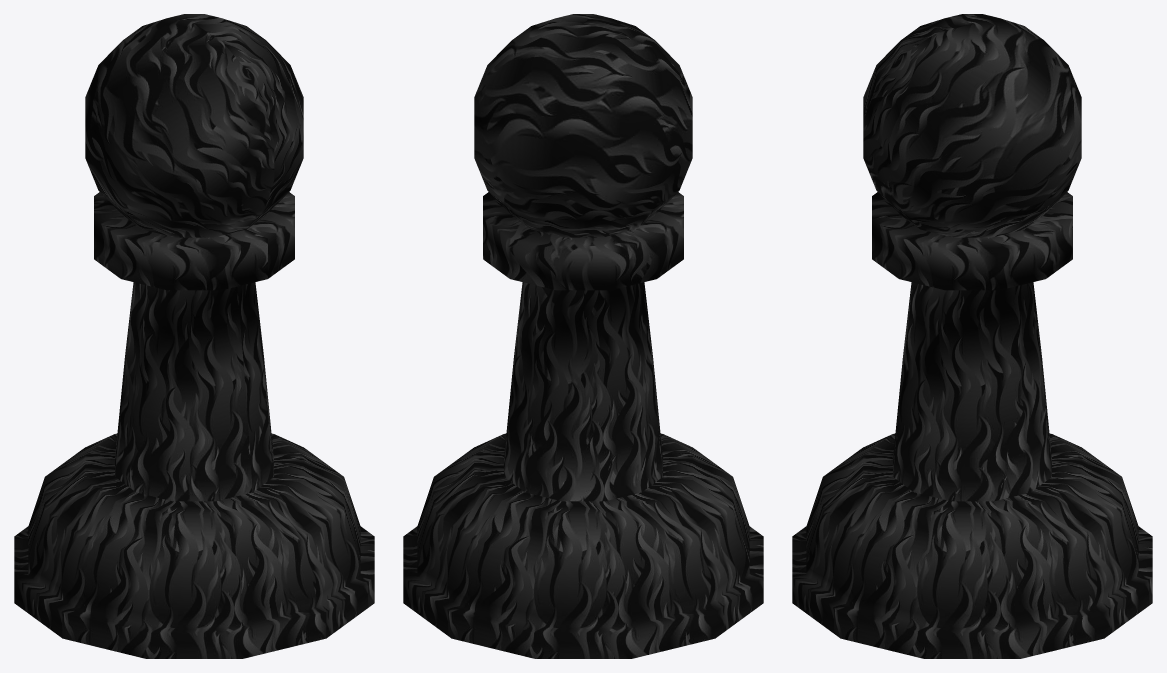
Rendered from Pawn.glb.
The picture shows the model from 3 angles, left to right: view 1: azimuth 30°, elevation 25°; view 2: azimuth 150°, elevation 25°; view 3: azimuth 270°, elevation 25°; orthographic projection.
Visible parts, largest first — view 1: Pawn; view 2: Pawn; view 3: Pawn.
Boxes of the visible parts, x1=… form: Pawn: x1=14, y1=14, x2=374, y2=658; Pawn: x1=403, y1=14, x2=763, y2=658; Pawn: x1=792, y1=14, x2=1152, y2=658.
Bounding box in the file's own units: 0.1256 × 0.215 × 0.1256.
Materials: 1 (1 with a texture image).
